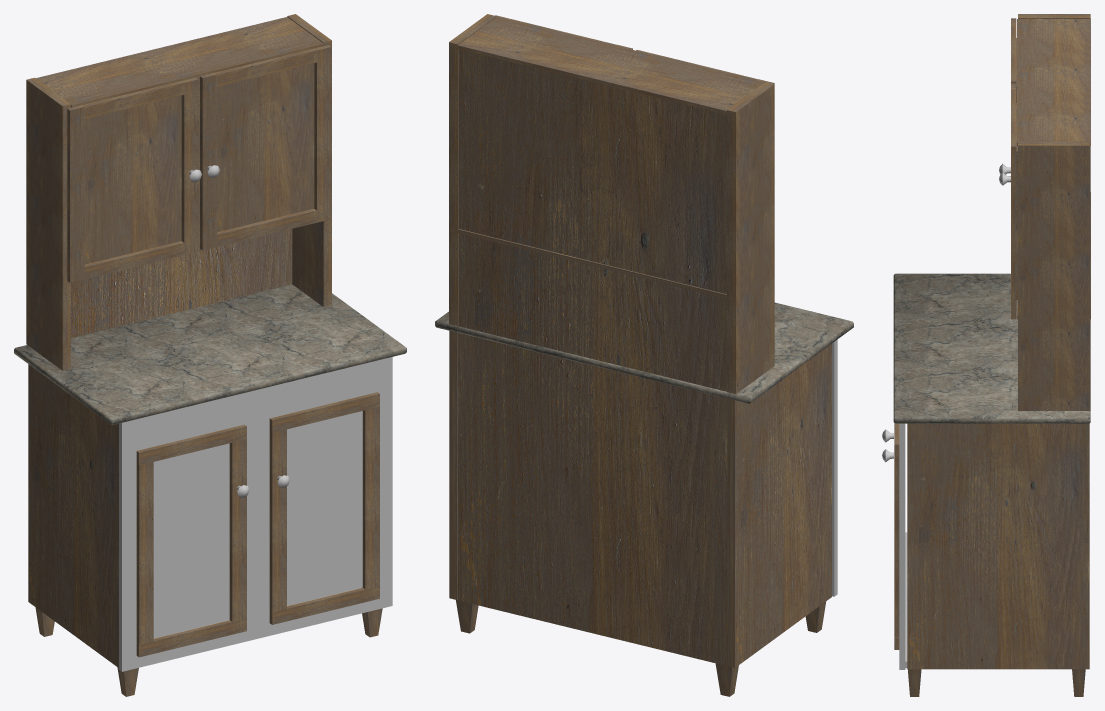
The model's file is Cupboard_01_TypeA.DAE.
The picture shows the model from 3 angles, left to right: view 1: azimuth 30°, elevation 25°; view 2: azimuth 150°, elevation 25°; view 3: azimuth 270°, elevation 25°; orthographic projection. The views are drawn at different scales.
Visible parts, largest first — view 1: CupBase300, CupDoor_UL300, CupDoor_UR300, CupDoor_BL300, CupDoor_BR300; view 2: CupBase300; view 3: CupBase300, CupDoor_UR300, CupDoor_BR300, CupDoor_UL300.
Part boxes in pixels (x1,y1,x2,y2): CupBase300: (14,14,406,696); CupDoor_UL300: (67,77,201,282); CupDoor_UR300: (200,45,331,250); CupDoor_BL300: (136,424,249,657); CupDoor_BR300: (269,392,379,624); CupBase300: (435,14,853,696); CupBase300: (893,14,1090,696); CupDoor_UR300: (999,83,1017,319); CupDoor_BR300: (882,423,899,649); CupDoor_UL300: (999,18,1016,174).
Size of what is drawn, in the model's own units: 54.62 by 33.27 by 97.55.
